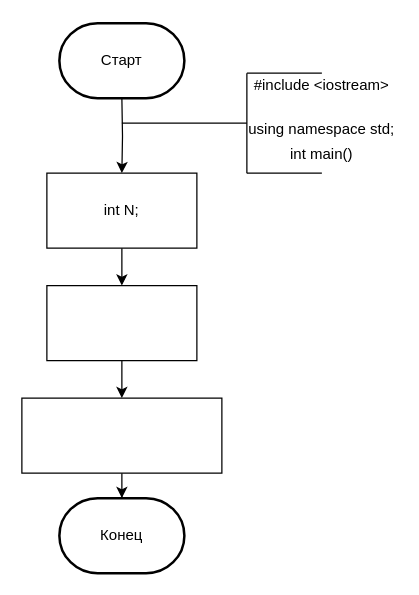
Some shapes in this 419 by 595 pixel diagram are drawn without their labels. Here are the shapes that lost their labels. From the top down, the centre of each, then its label:
At [121,322]: "cin >> N;".
At [121,435]: "cout << ((N + 1) / 2) * N << endl;".
